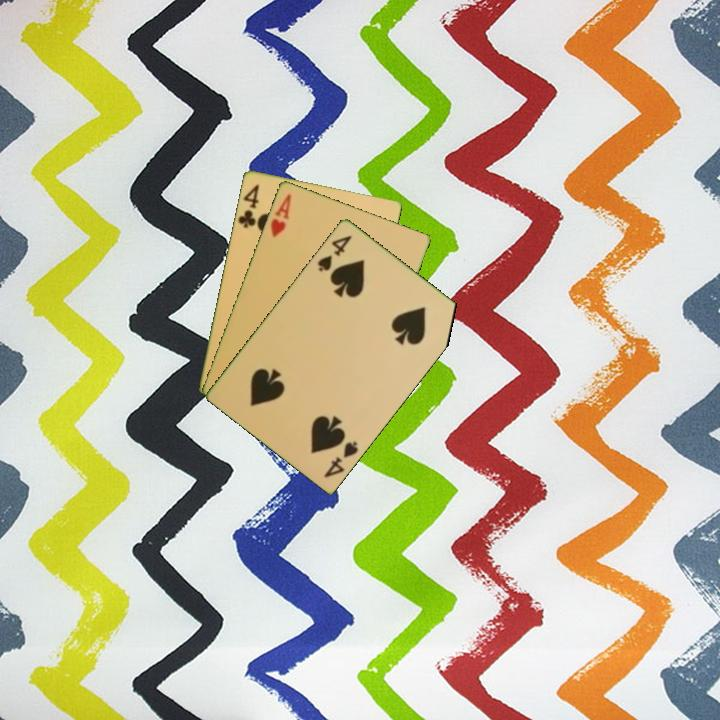4c: (234, 180, 262, 231)
4s: (314, 231, 355, 274), (320, 437, 361, 480)
Ah: (267, 190, 294, 240)
